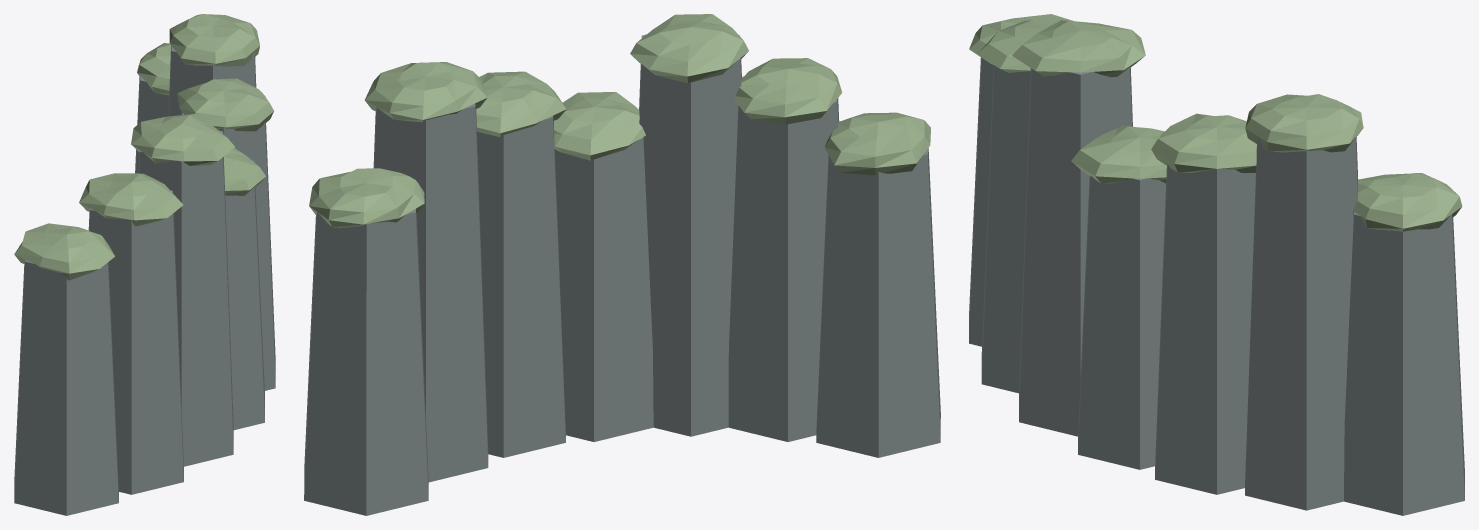
Rendered from primeval-frontier-columnar-cliff-corner-a1c0063a__1751.glb.
3 renders of one model, left to right at view 1: azimuth 30°, elevation 25°; view 2: azimuth 150°, elevation 25°; view 3: azimuth 270°, elevation 25°, orthographic. The views are drawn at different scales.
Parts seen in each view (by area): view 1: columnar-cliff-corner; view 2: columnar-cliff-corner; view 3: columnar-cliff-corner.
Boxes of the visible parts, left/top/right/bottom form: columnar-cliff-corner: left=14, top=14, right=275, bottom=515; columnar-cliff-corner: left=304, top=14, right=940, bottom=515; columnar-cliff-corner: left=969, top=14, right=1464, bottom=515.
Size of the model in its own units: 3.46 by 2.79 by 3.33.
